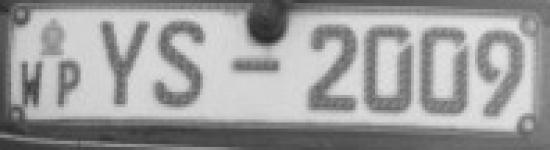-: (224, 52, 286, 80)
0: (414, 22, 474, 124), (361, 21, 415, 116)
2: (303, 19, 361, 115)
9: (474, 22, 530, 124)
P: (54, 56, 86, 109)
S: (152, 16, 212, 111)
W: (17, 57, 46, 109)
Y: (97, 15, 152, 109)
